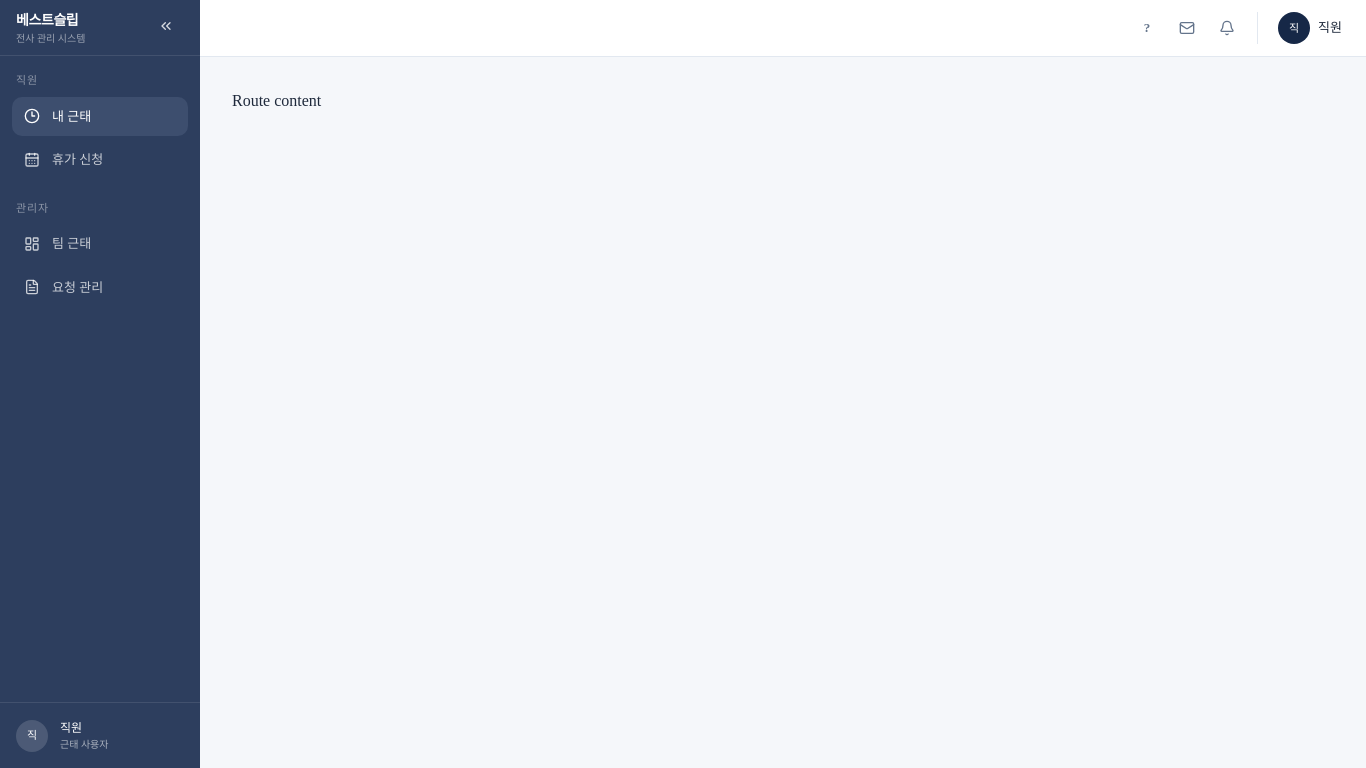
Test: ErpShellFrame › collapses the desktop sidebar into a rail and expands it again
Click the button named "사이드바 접기" at (166, 26), box [148,8,184,44]
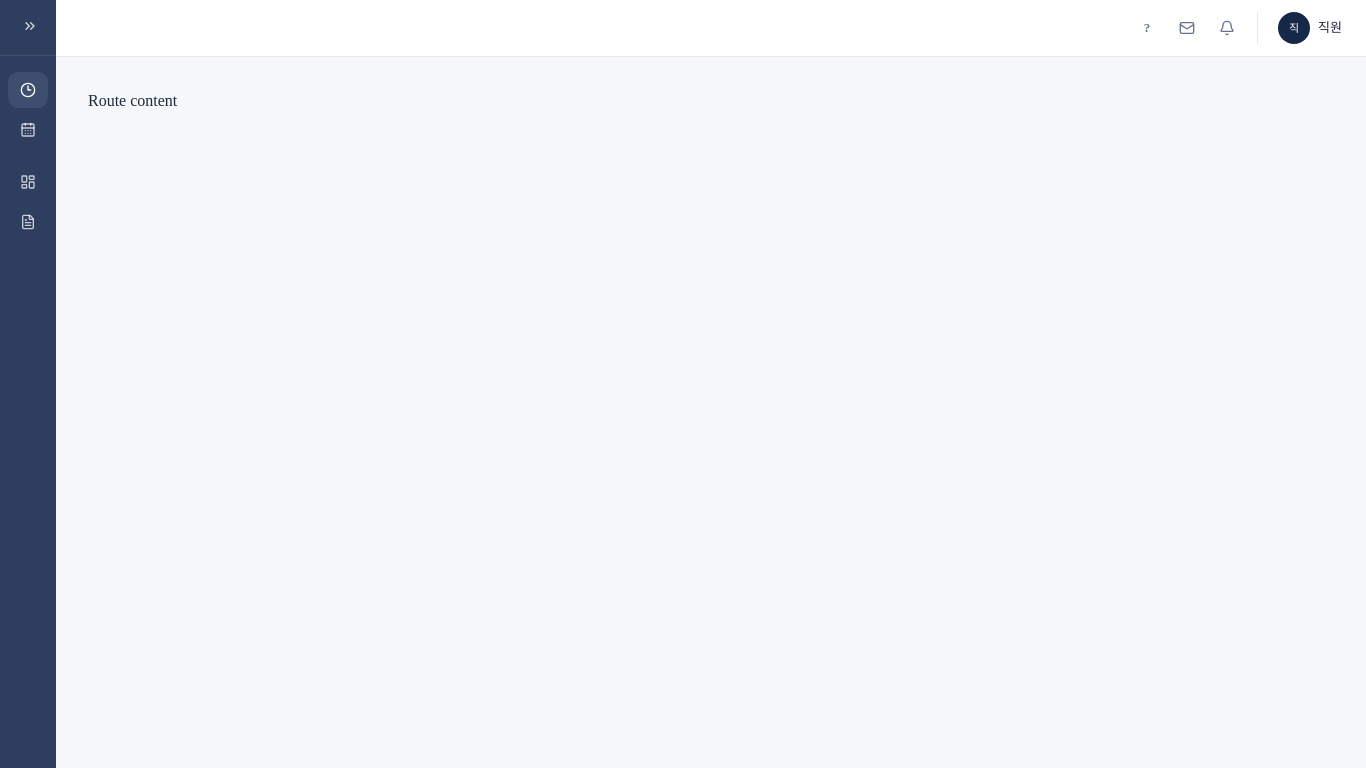
Expected: the button named "사이드바 펼치기" is shown
Expected: the text "베스트슬립" is gone
Expected: the text "전사 관리 시스템" is gone
Click the button named "사이드바 펼치기" at (30, 26), box [12,8,48,44]
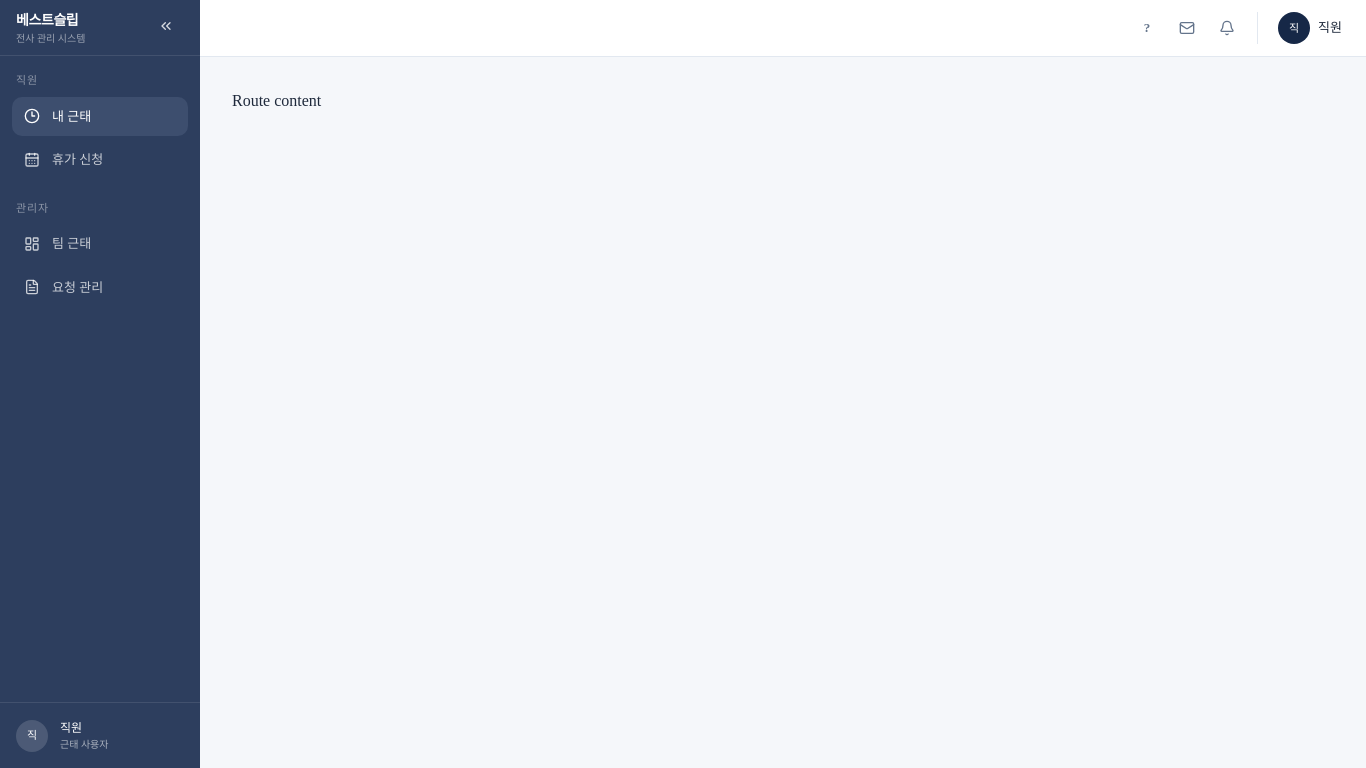
Expected: the button named "사이드바 접기" is shown, [148,8,184,44]
Expected: the text "베스트슬립" is shown, [16,10,85,31]
